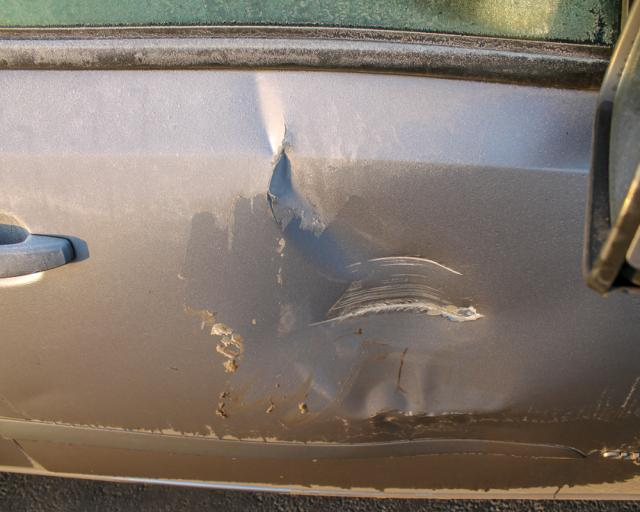dent: (239, 72, 518, 417)
scratch: (315, 248, 490, 329)
